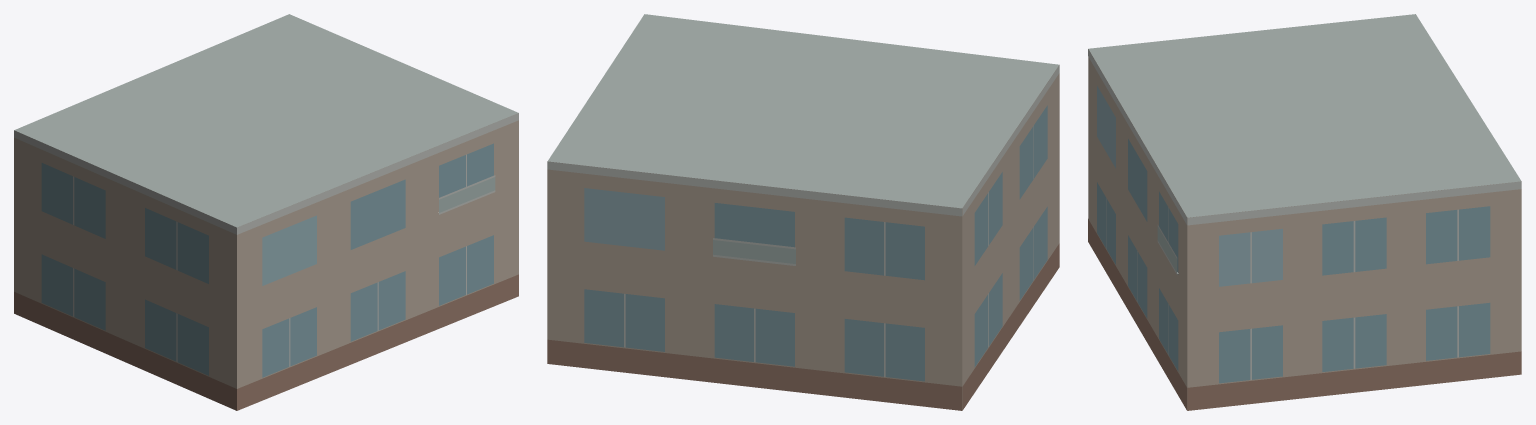
Rendered from survey-upis-32924114.glb.
3 renders of one model, left to right at view 1: azimuth 30°, elevation 25°; view 2: azimuth 150°, elevation 25°; view 3: azimuth 270°, elevation 25°, orthographic. The views are drawn at different scales.
Parts seen in each view (by area): view 1: survey-upis-32924114.tmp; view 2: survey-upis-32924114.tmp; view 3: survey-upis-32924114.tmp.
Boxes of the visible parts, bbox=[...] form: survey-upis-32924114.tmp: bbox=[14, 14, 518, 410]; survey-upis-32924114.tmp: bbox=[547, 14, 1059, 410]; survey-upis-32924114.tmp: bbox=[1088, 14, 1521, 410].
Size of the model in its own units: 13.81 by 6.1 by 12.42.
